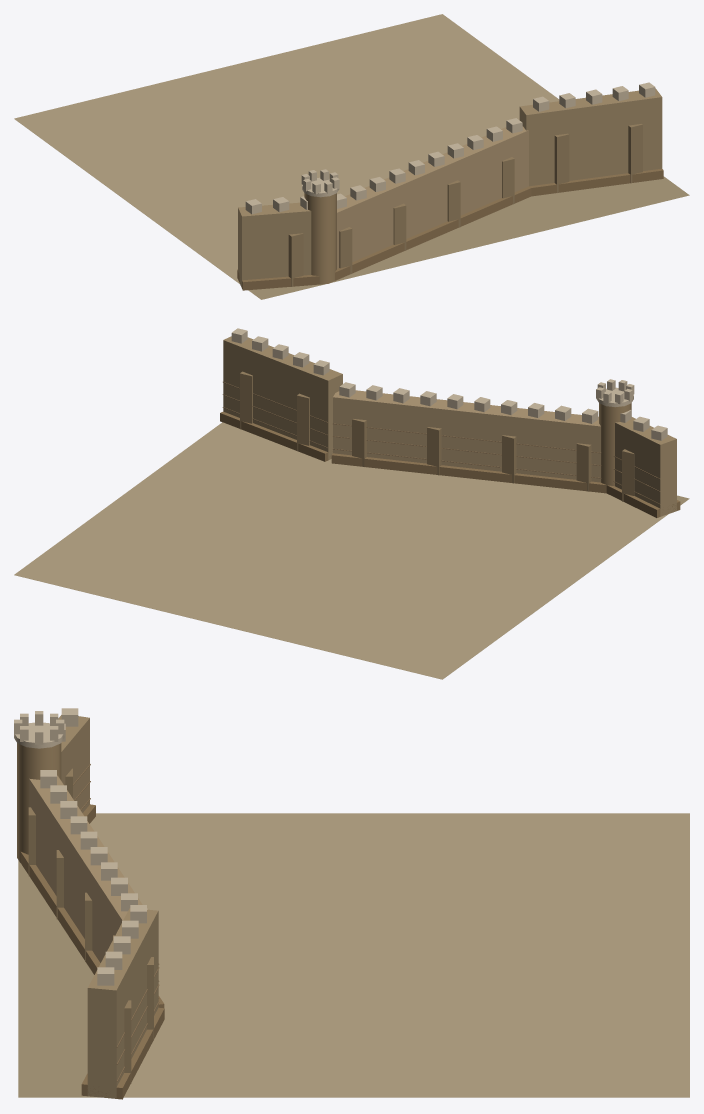
File: city-boundary--1_1.glb
The picture shows the model from 3 angles, top to bottom: view 1: azimuth 30°, elevation 25°; view 2: azimuth 150°, elevation 25°; view 3: azimuth 270°, elevation 25°; orthographic projection. The views are drawn at different scales.
Parts seen in each view (by area): view 1: city-boundary--1_1; view 2: city-boundary--1_1; view 3: city-boundary--1_1.
Part boxes in pixels (box(x1,y1,x2,y2)): city-boundary--1_1: box(14, 14, 689, 299); city-boundary--1_1: box(14, 328, 689, 679); city-boundary--1_1: box(14, 708, 689, 1099).
Size of the model in its own units: 32.55 by 7.19 by 32.2.
